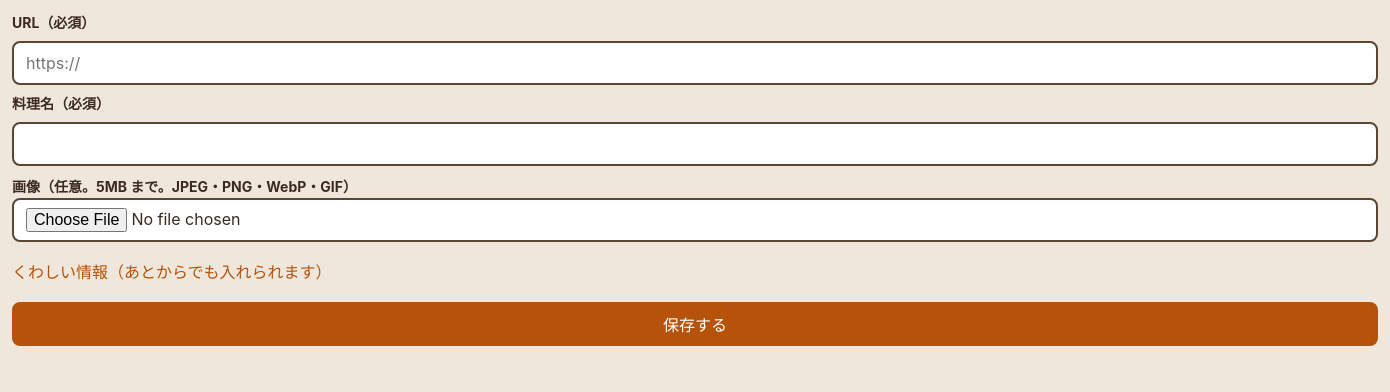
Scenario: 保存の画面の検証の表示（BR3.1〜BR3.5） › http/https 以外の URL は拒否して理由を示す
The image size is (1390, 392).
Type "javascript:alert(1)" into the field with test id "input-url".
click(695, 63); type("javascript:alert(1)")  # box [12, 41, 1378, 85]
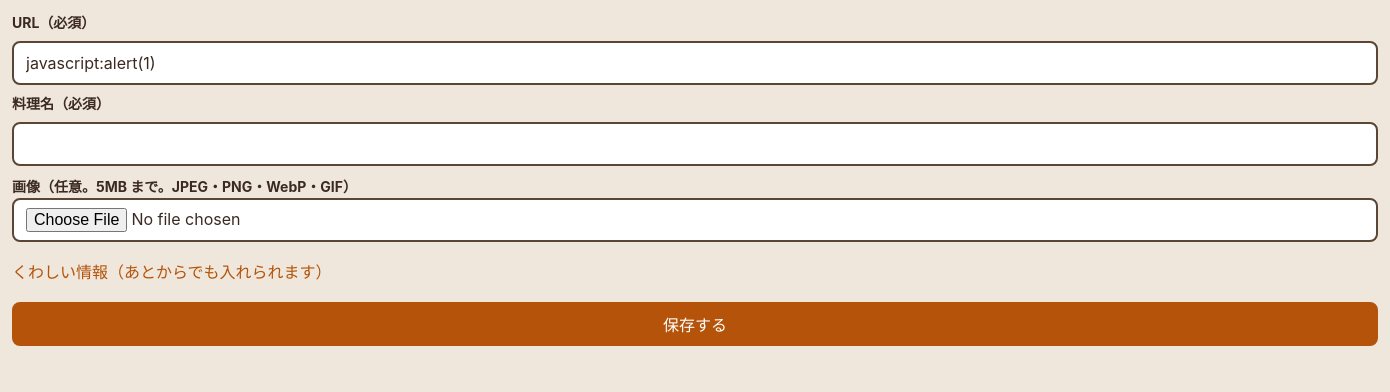
Type "料理" into the field with test id "input-name".
click(695, 144); type("料理")  # box [12, 122, 1378, 166]
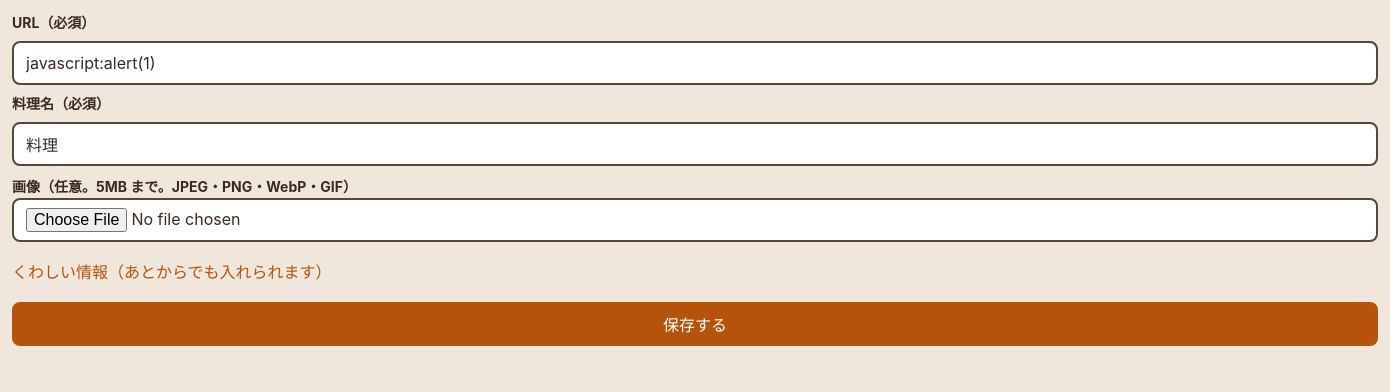
Click the button with test id "submit-button".
click(695, 324)  # box [12, 302, 1378, 346]
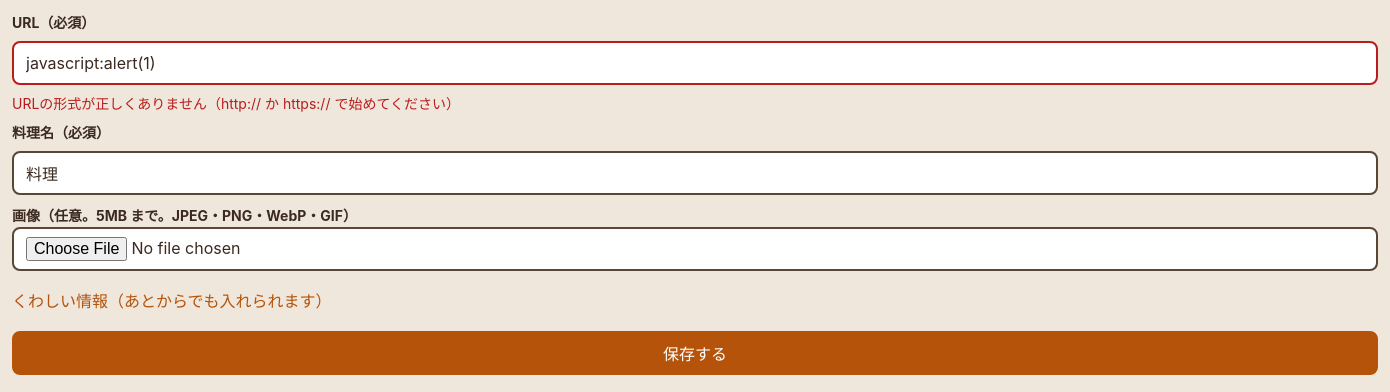
Now the message with test id "error-url" shows "URLの形式が正しくありません", box [12, 95, 460, 112]
